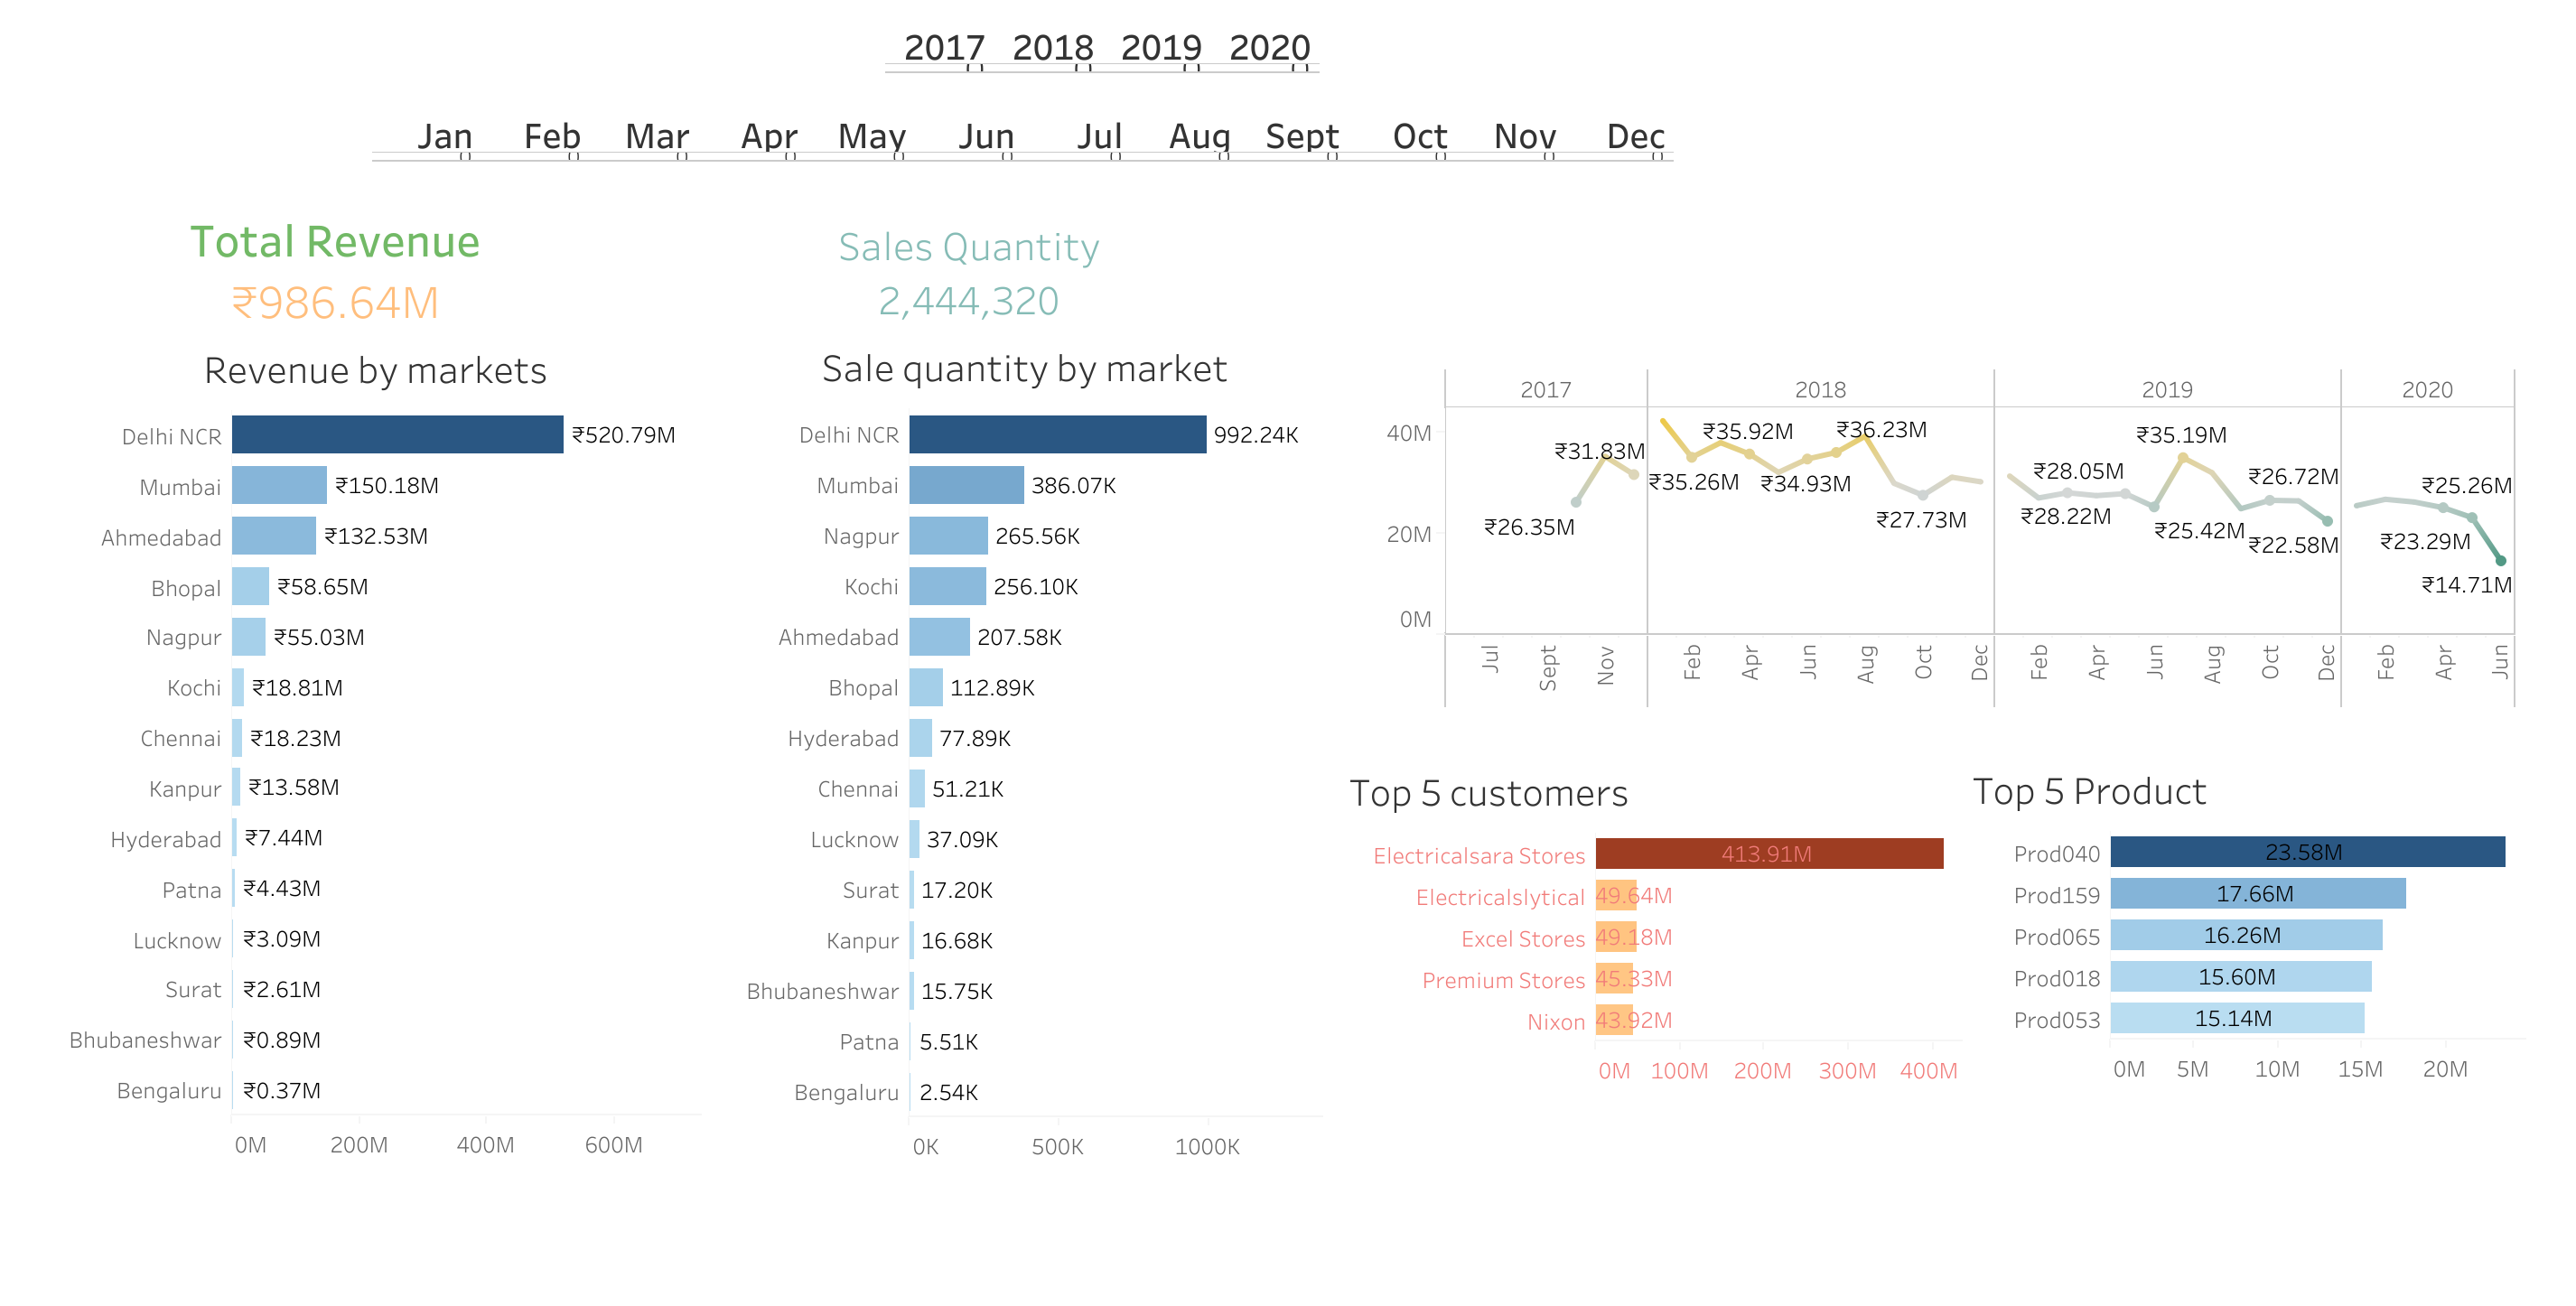

The dashboard page shown, as its layout file describes it:
{"tool":"tableau","page":{"name":"Dashboard Revenue","canvas":[1000,1000],"units":"permille","ordinal":0},"visuals":[{"type":"worksheet","title":"Year","mark":"Automatic","cols":["cy_date"],"box":[343.7,0,211.6,77.1]},{"type":"worksheet","title":"Month","mark":"Automatic","cols":["cy_date"],"box":[144.2,68,633.9,83.7]},{"type":"worksheet","title":"Revenue","mark":"Automatic","box":[67.4,138.6,162.3,124.2]},{"type":"worksheet","title":"Quantity","mark":"Automatic","box":[320.4,145.1,143.3,108.5]},{"type":"worksheet","title":"Sale quantity by market","mark":"Automatic","rows":["markets_name"],"cols":["sales_qty"],"box":[282.2,252.8,230.8,658.1]},{"type":"worksheet","title":"Revenue by markets","mark":"Automatic","rows":["markets_name"],"cols":["Calculation_0094509478359043"],"box":[19.4,254,252.7,630]},{"type":"worksheet","title":"Revenue by Month","mark":"Automatic","rows":["Calculation_0094509478359043"],"cols":["cy_date","cy_date"],"box":[537.5,262.5,438.9,278.4]},{"type":"worksheet","title":"Top 5 Product","mark":"Automatic","rows":["product_code (products.csv)"],"cols":["Calculation_0094509478359043"],"box":[762.4,576.3,217.3,300.4]},{"type":"worksheet","title":"Top 5 customers","mark":"Automatic","rows":["custmer_name"],"cols":["Calculation_0094509478359043"],"box":[520.6,577.5,240.1,283.3]}]}

Visuals, with their boxes on the dashboard's canvas, which has no fixed pixel size, in thousandths of its width and height (x1, y1, x2, y2). These are canvas units, not pixel positions in the 2576x1306 screenshot, which may show the page scaled, cropped or inside an application window:
"Year" worksheet: bbox=(344, 0, 555, 77)
"Month" worksheet: bbox=(144, 68, 778, 152)
"Revenue" worksheet: bbox=(67, 139, 230, 263)
"Quantity" worksheet: bbox=(320, 145, 464, 254)
"Sale quantity by market" worksheet: bbox=(282, 253, 513, 911)
"Revenue by markets" worksheet: bbox=(19, 254, 272, 884)
"Revenue by Month" worksheet: bbox=(538, 262, 976, 541)
"Top 5 Product" worksheet: bbox=(762, 576, 980, 877)
"Top 5 customers" worksheet: bbox=(521, 578, 761, 861)
